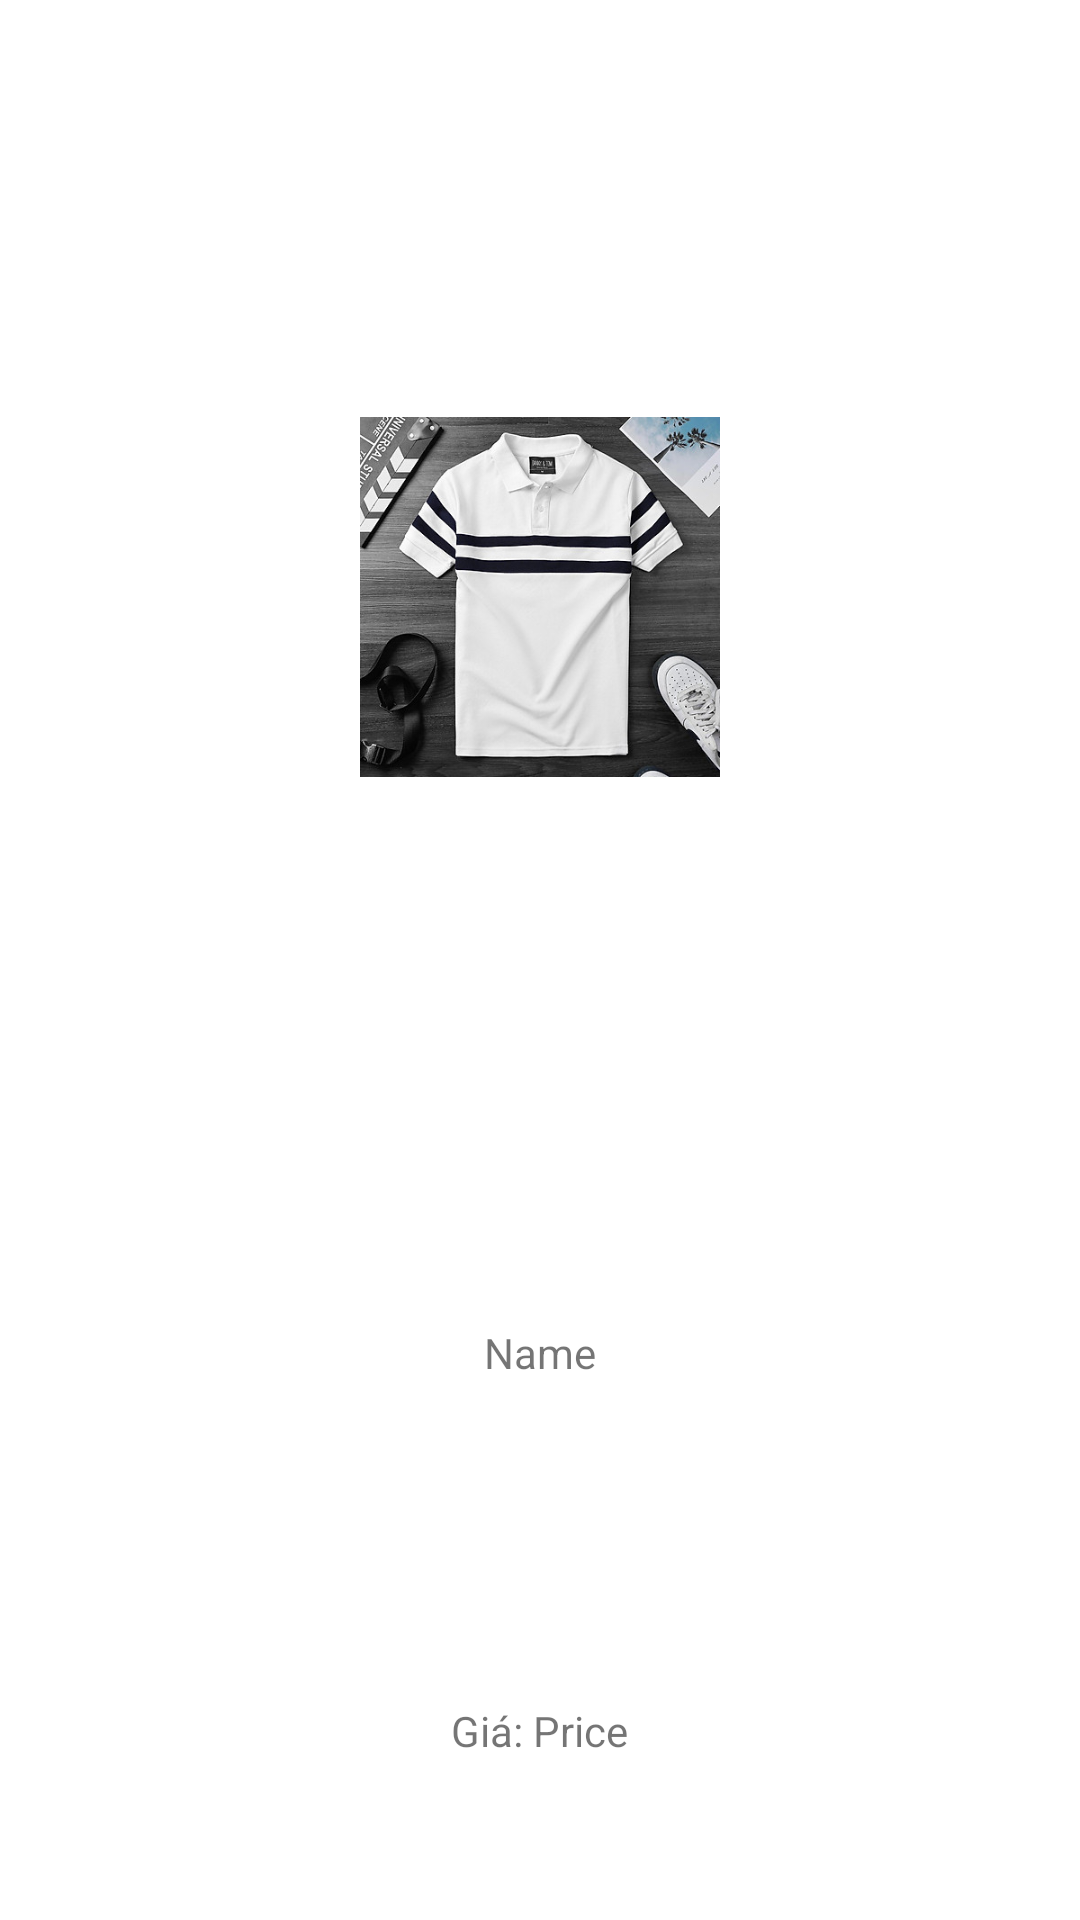

Icons on this 1080px x 1920px Android screen, each with its box as (x1, y1, x2, y2):
aothun: (360, 417, 720, 777)
